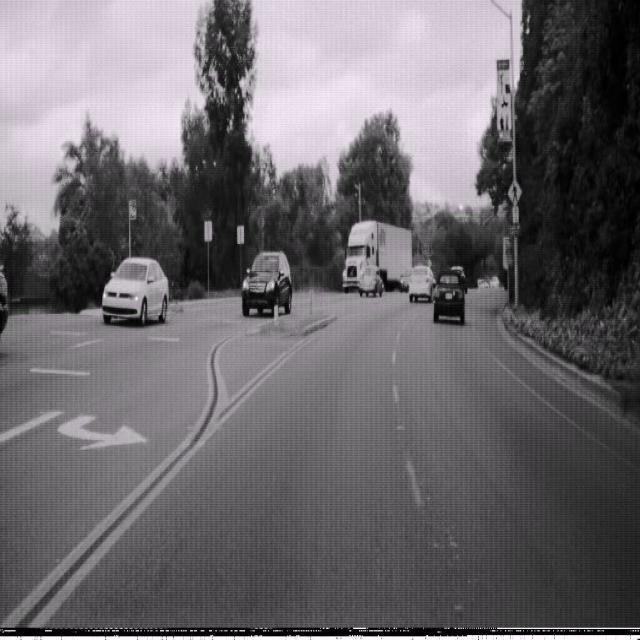pedestrianCrossing: (506, 177, 522, 207)
